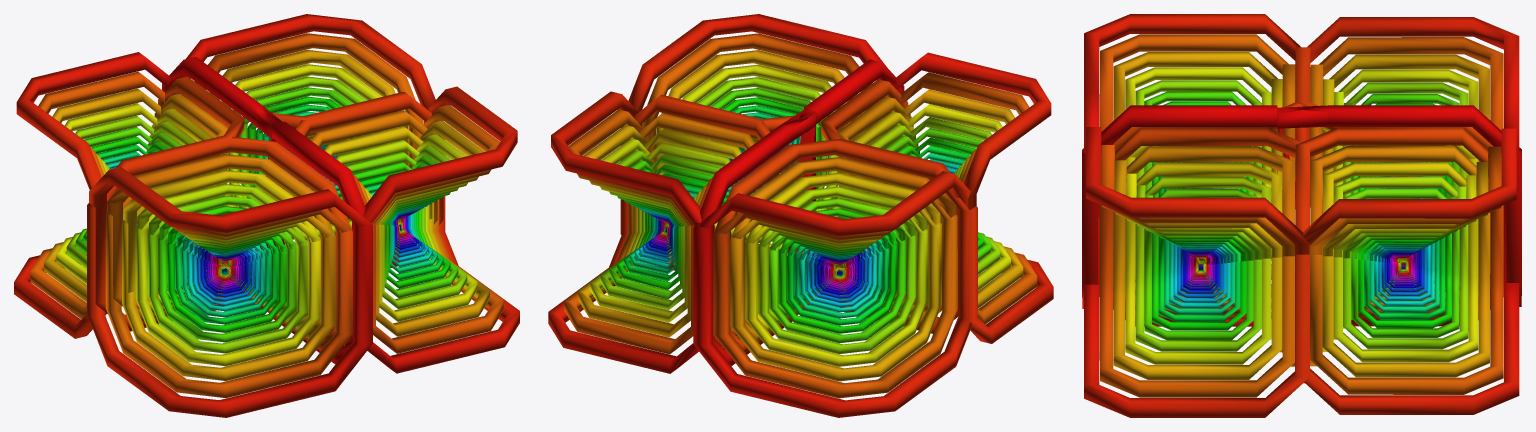
The model's file is Sculpture_4_a_opticalIllusion.obj.
3 views of the same model, side by side, from view 1: azimuth 30°, elevation 25°; view 2: azimuth 150°, elevation 25°; view 3: azimuth 270°, elevation 25° (orthographic). The views are drawn at different scales.
Size of the model in its own units: 28.42 by 15.18 by 27.83.
